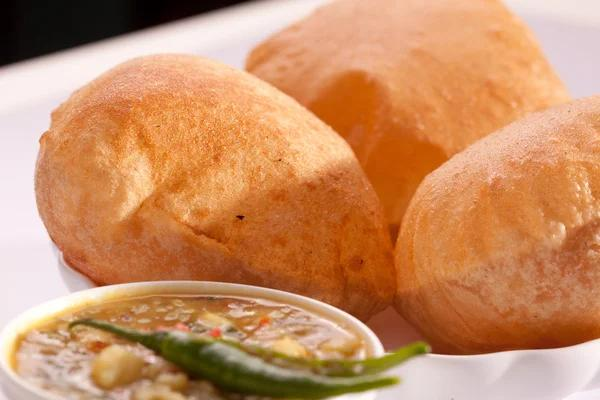puri: (36, 3, 600, 284)
